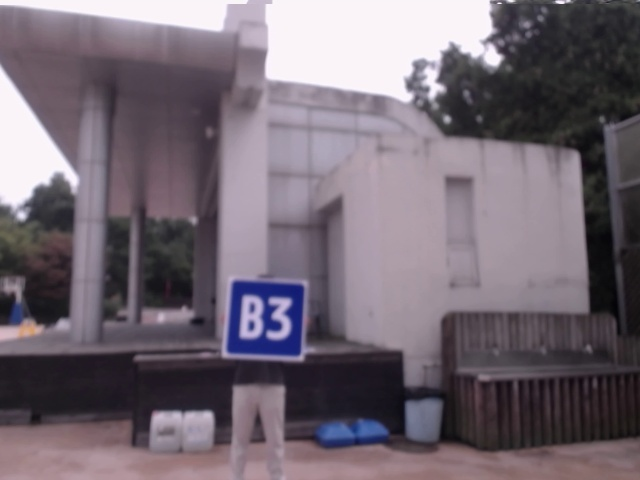delivery_b3: (226, 276, 304, 358)
